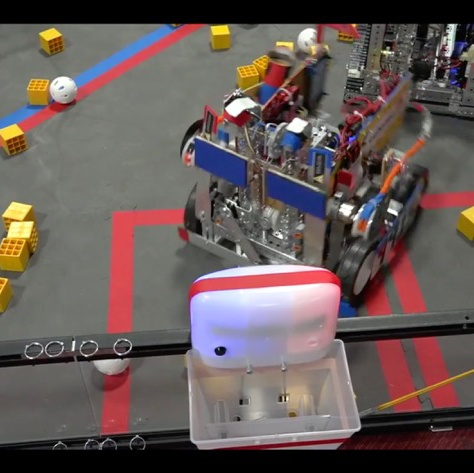robot: (165, 53, 436, 304), (339, 53, 469, 121)
